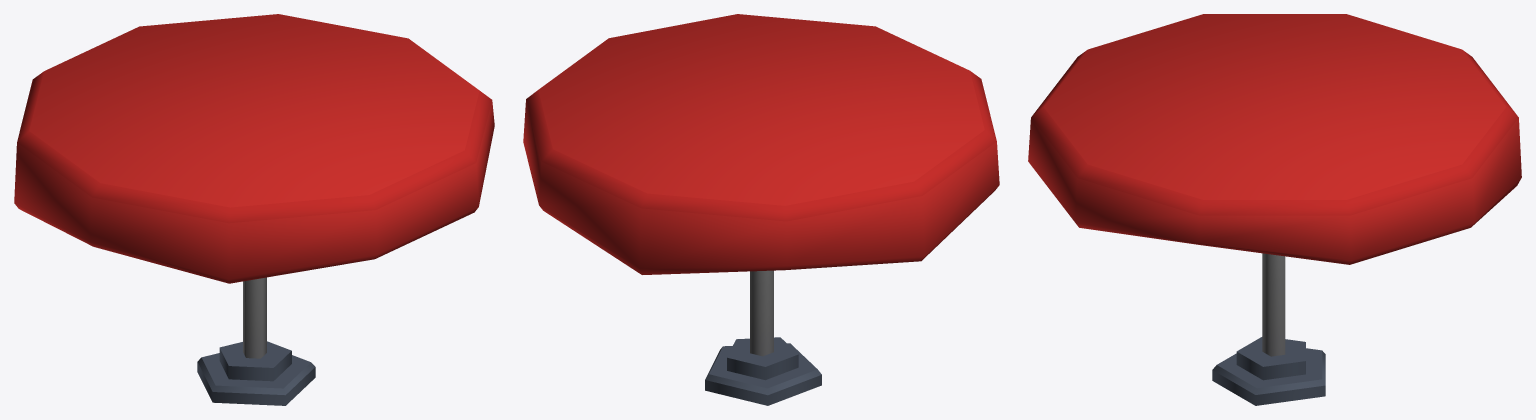
Rendered from Table_1_A.fbx.
3 renders of one model, left to right at view 1: azimuth 30°, elevation 25°; view 2: azimuth 150°, elevation 25°; view 3: azimuth 270°, elevation 25°, orthographic.
Parts seen in each view (by area): view 1: Table_1_A; view 2: Table_1_A; view 3: Table_1_A.
Boxes of the visible parts, <box> form: Table_1_A: <box>14,14,494,405</box>; Table_1_A: <box>523,14,999,405</box>; Table_1_A: <box>1028,14,1521,405</box>.
Size of the model in its own units: 134 by 86.3 by 141.
